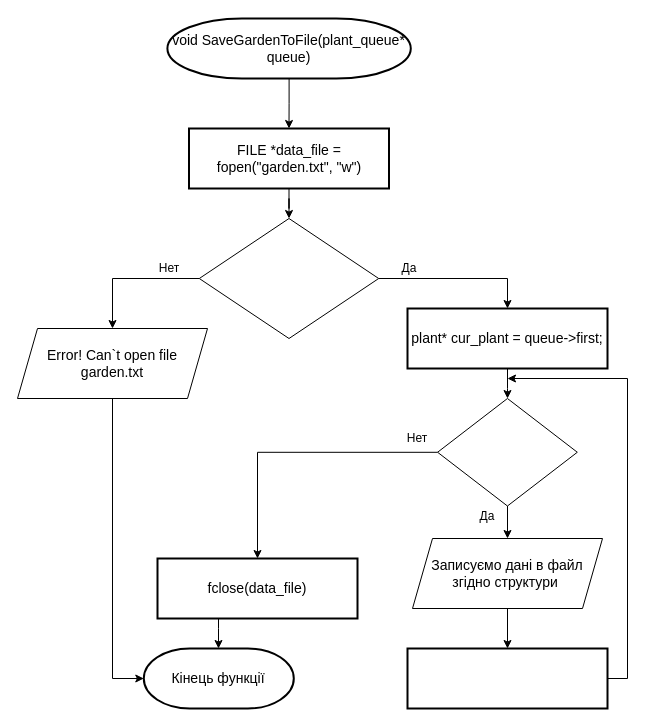
This 653x726 diagram has some shape labels left out. Each missing label, with the box of its shape:
cur_plant != NULL: (437, 398, 577, 506)
cur_plant = cur_plant->next;: (406, 647, 608, 709)
data_file != NULL: (198, 218, 379, 338)
